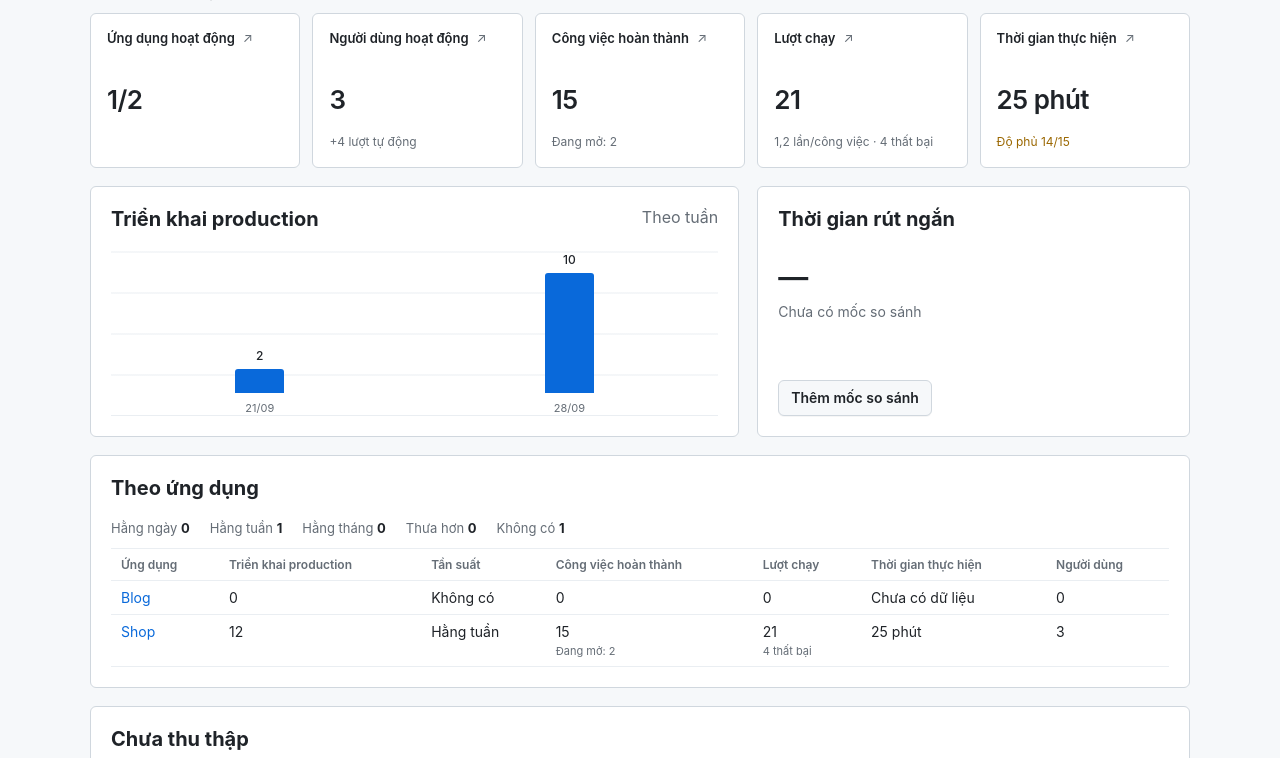
it: EffectivenessPage › saves a baseline version with the expected version and reports a stale conflict
(page scrolled)
Click the button "Thêm mốc so sánh" at (855, 398), box [778,380,932,416]
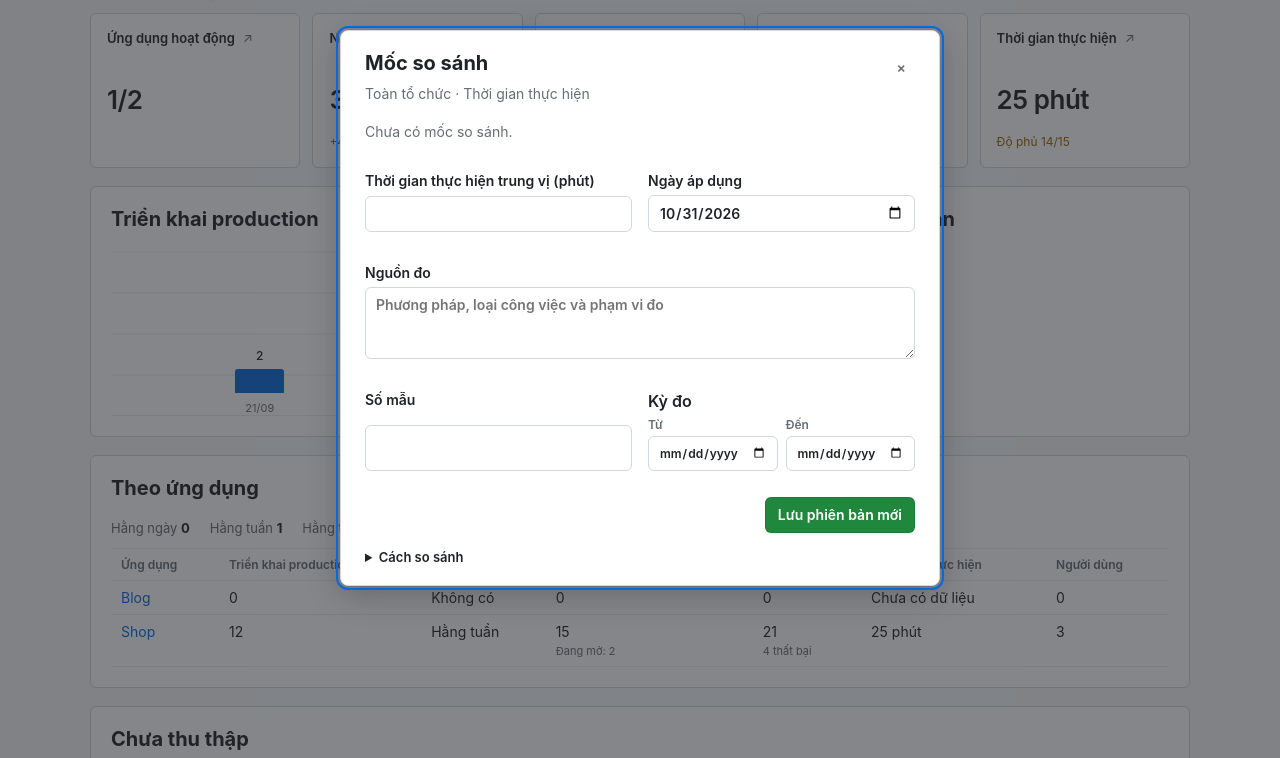
Type "45" into the number field labelled "Thời gian thực hiện trung vị (phút)" at (498, 214), box [365,196,632,232]
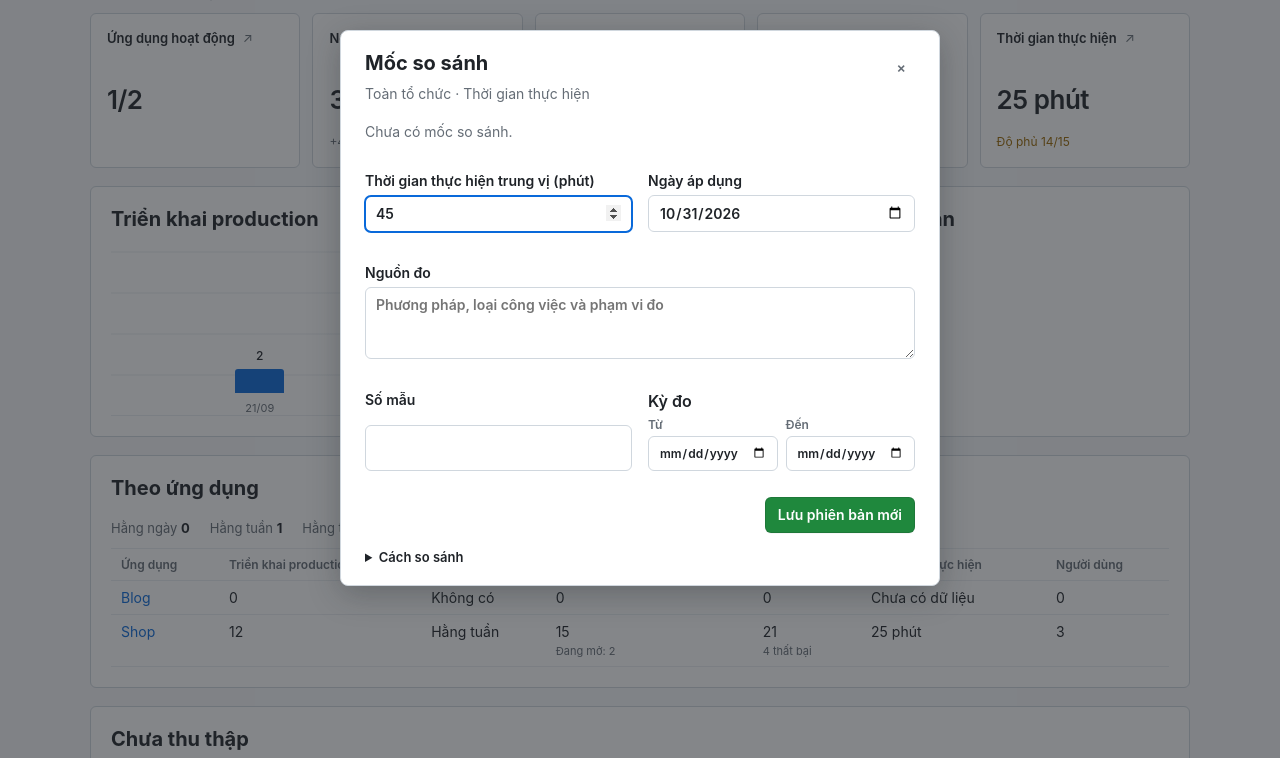
Type "Đo tay 10 yêu cầu" into the text box labelled "Nguồn đo" at (640, 323), box [365,287,915,359]
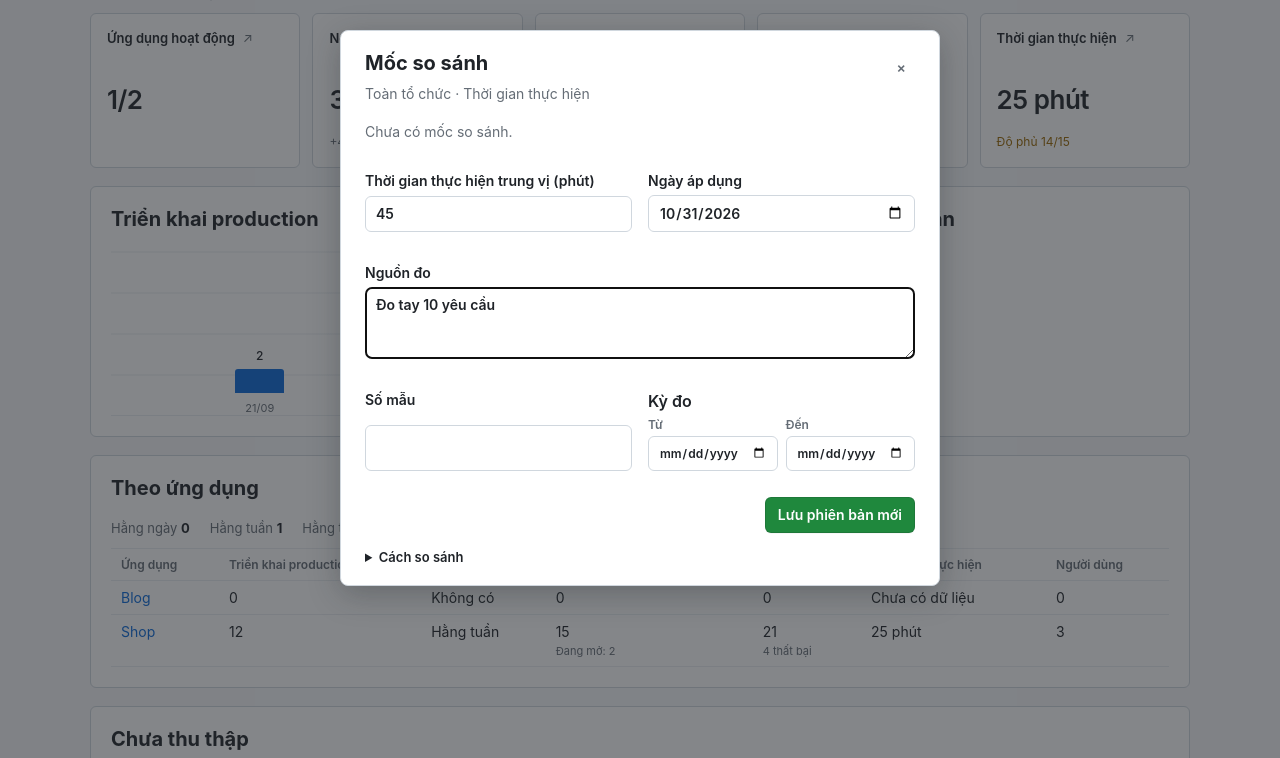
Click the button "Lưu phiên bản mới" at (840, 515), box [765,497,915,533]
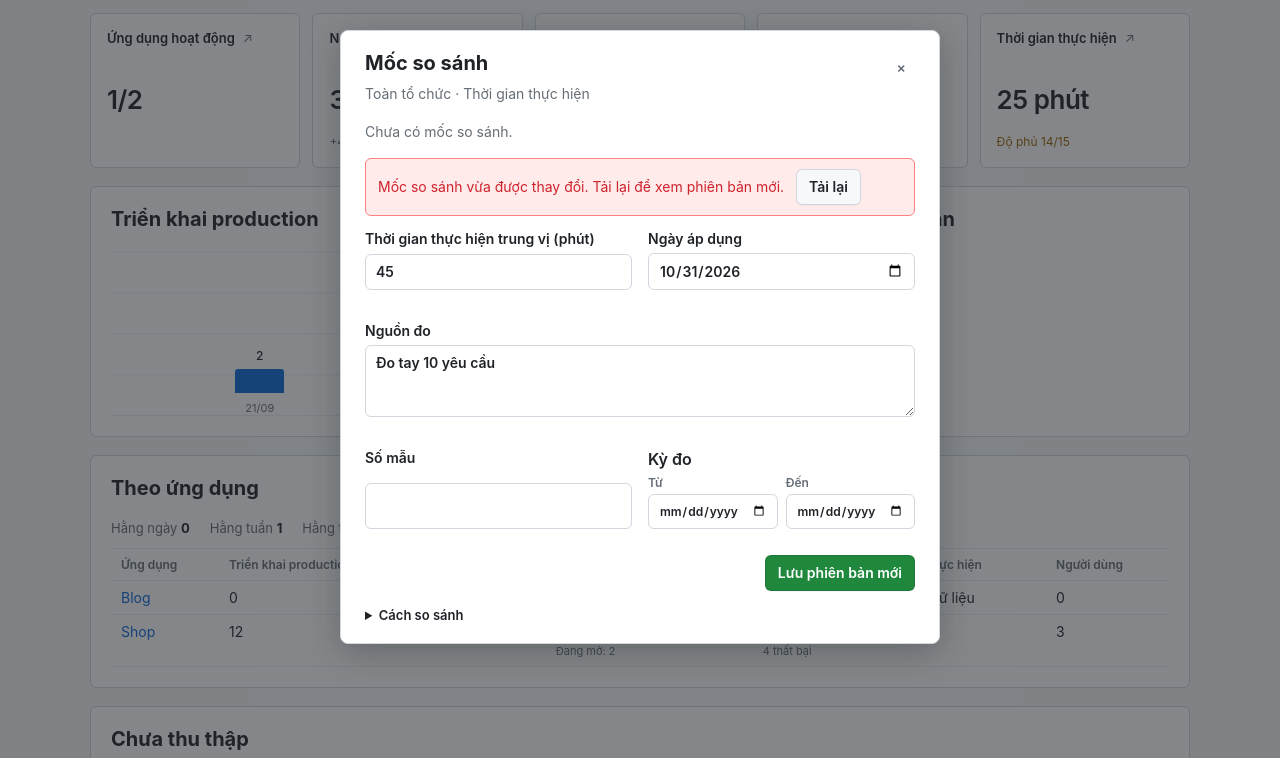
Result: the text "Mốc so sánh vừa được thay đổi. Tải lại để xem phiên bản mới. Tải lại" is shown at [365,158,915,216]
Click the button "Lưu phiên bản mới" at (840, 573), box [765,555,915,591]
(page scrolled)
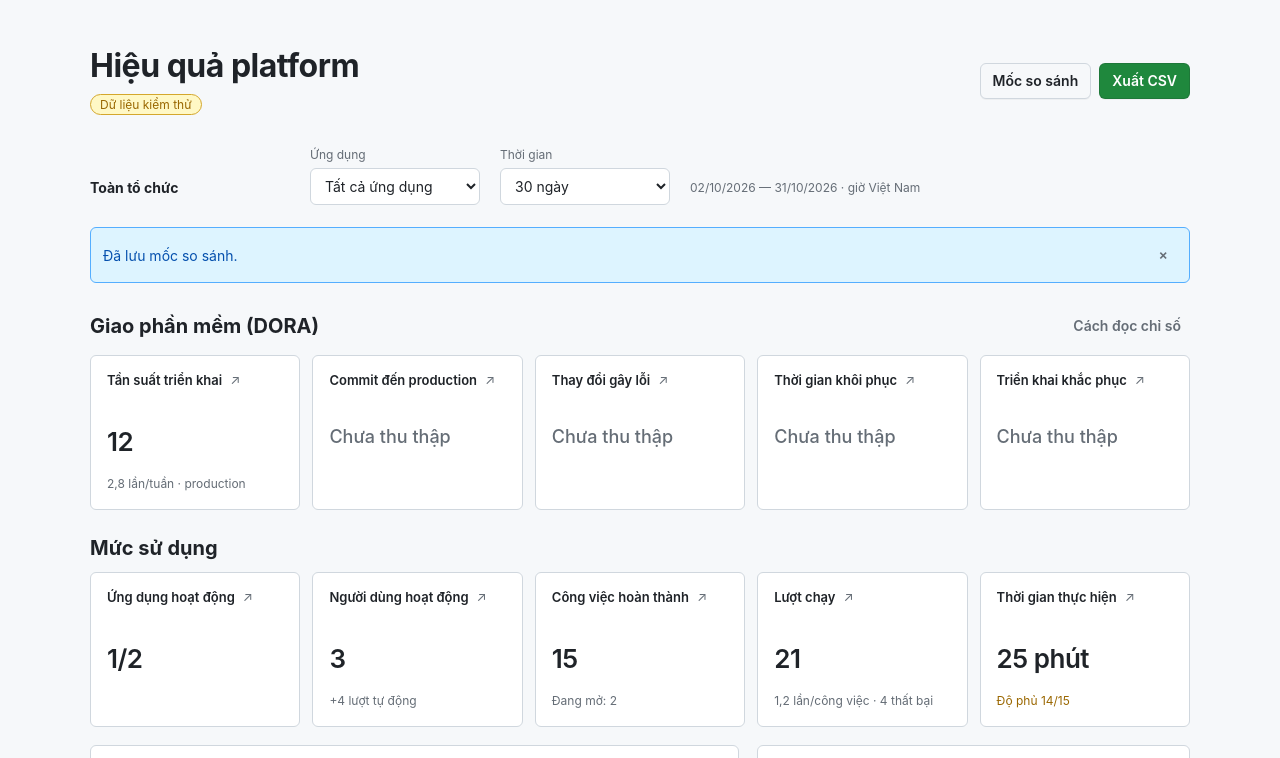
Result: the text "Đã lưu mốc so sánh." is shown at [103,246,238,264]
